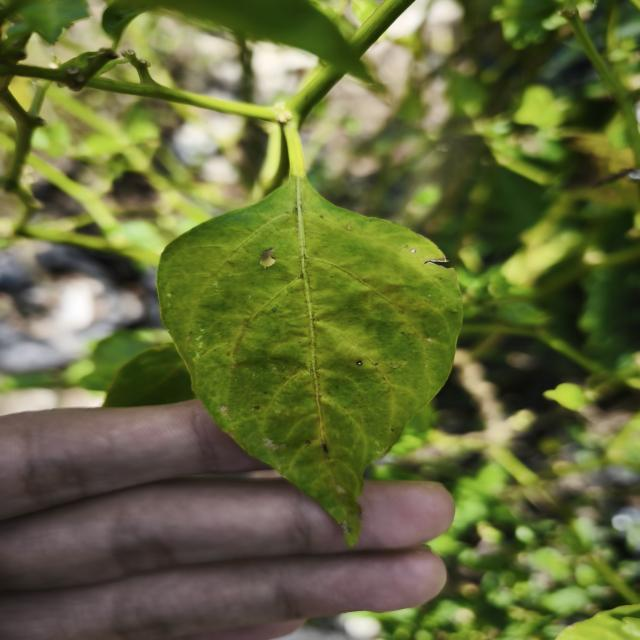Virus Kuning: (154, 166, 464, 546)
